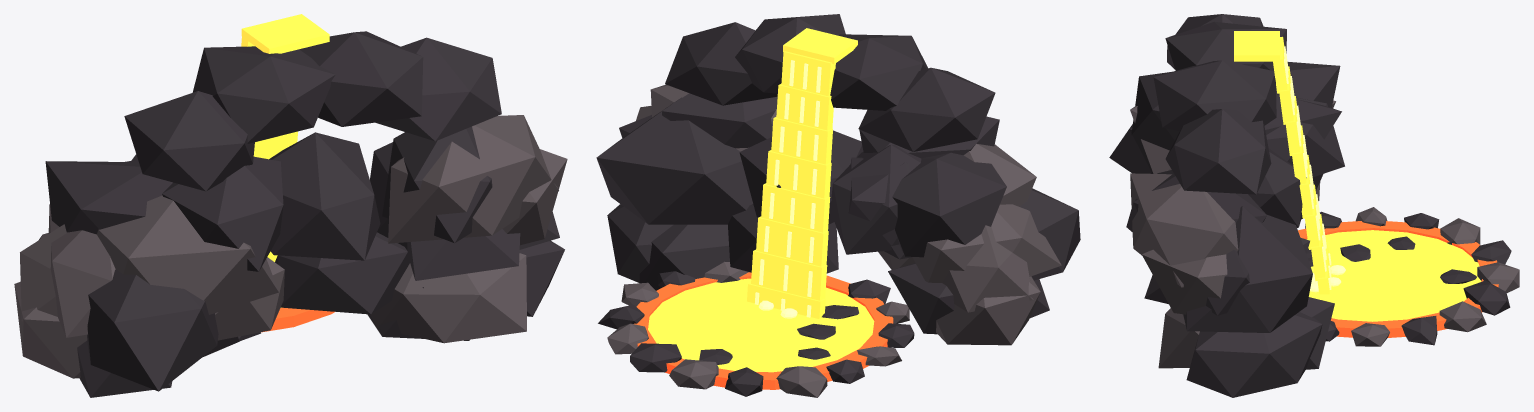
Rendered from LavaFall.fbx.
3 renders of one model, left to right at view 1: azimuth 30°, elevation 25°; view 2: azimuth 150°, elevation 25°; view 3: azimuth 270°, elevation 25°, orthographic. The views are drawn at different scales.
Parts seen in each view (by area): view 1: LavaFall_Basalt, LavaFall_BasaltLight, LavaFall_Lava, LavaFall_LavaDim; view 2: LavaFall_Basalt, LavaFall_Lava, LavaFall_BasaltLight, LavaFall_LavaDim, LavaFall_Fire; view 3: LavaFall_Basalt, LavaFall_BasaltLight, LavaFall_Lava, LavaFall_LavaDim, LavaFall_Fire.
Boxes of the visible parts, <box> form: LavaFall_Basalt: <box>45,31,564,397</box>; LavaFall_BasaltLight: <box>14,115,567,378</box>; LavaFall_Lava: <box>241,14,329,307</box>; LavaFall_LavaDim: <box>261,307,334,332</box>; LavaFall_Basalt: <box>596,14,1080,396</box>; LavaFall_Lava: <box>648,28,874,372</box>; LavaFall_BasaltLight: <box>607,84,1061,397</box>; LavaFall_LavaDim: <box>634,272,893,389</box>; LavaFall_Fire: <box>754,60,821,318</box>; LavaFall_Basalt: <box>1109,14,1511,397</box>; LavaFall_BasaltLight: <box>1130,100,1519,368</box>; LavaFall_Lava: <box>1234,31,1481,321</box>; LavaFall_LavaDim: <box>1298,221,1498,337</box>; LavaFall_Fire: <box>1284,46,1345,292</box>.
Size of the model in its own units: 42.29 by 24.51 by 35.48.
